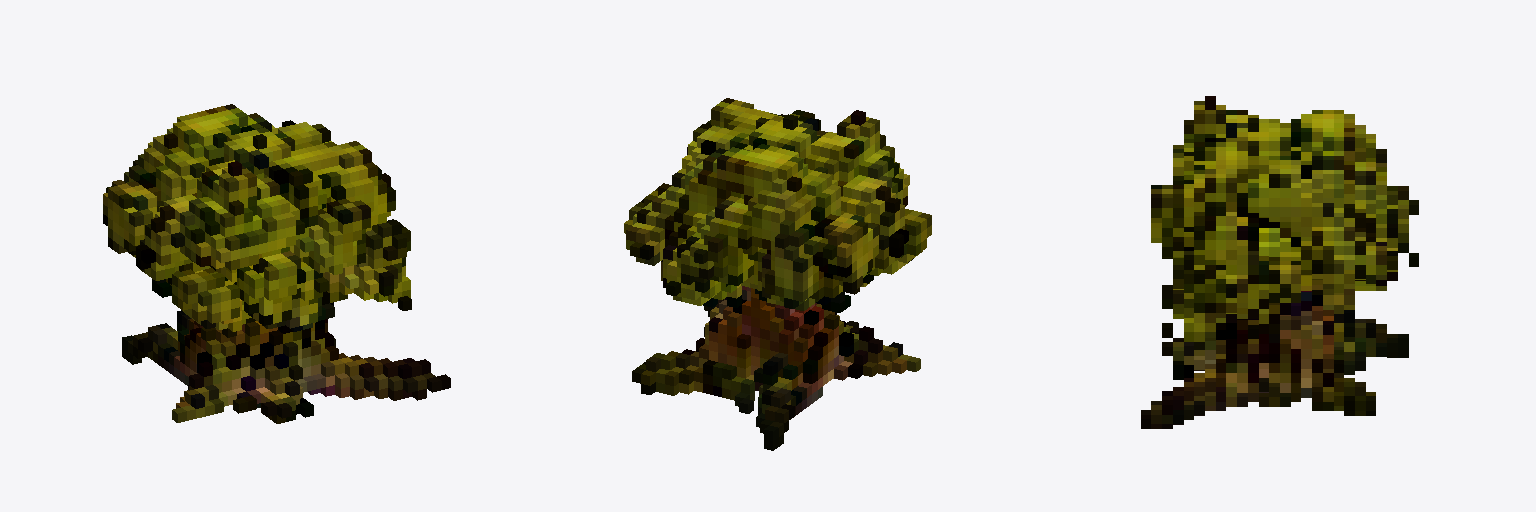
The model's file is iter_100.obj.
3 renders of one model, left to right at view 1: azimuth 30°, elevation 25°; view 2: azimuth 150°, elevation 25°; view 3: azimuth 270°, elevation 25°, orthographic.
Visible parts, largest first — view 1: iter_100; view 2: iter_100; view 3: iter_100.
Part boxes in pixels (left/top/right/bottom): iter_100: left=103, top=104, right=450, bottom=423; iter_100: left=624, top=98, right=931, bottom=450; iter_100: left=1141, top=96, right=1418, bottom=428.
Bounding box in the file's own units: 2.7 × 2.7 × 2.6.